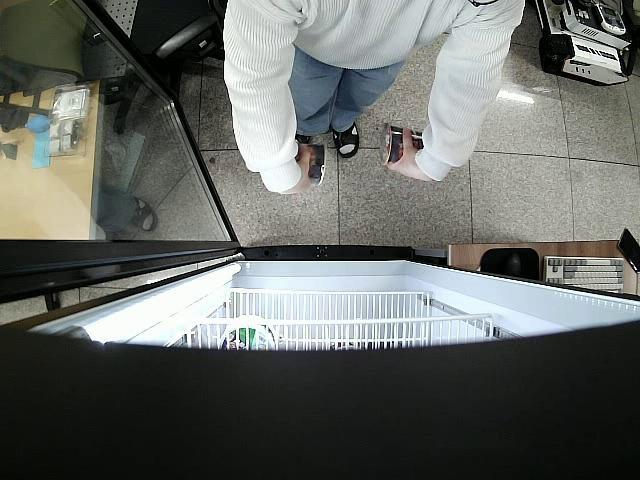08_buldak_S: (376, 122, 426, 166), (292, 141, 330, 188)
